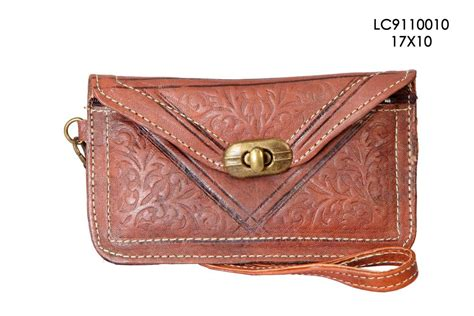cuero: (64, 72, 418, 293)
